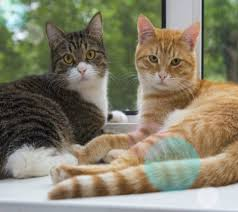Gato: (33, 8, 116, 116), (132, 12, 213, 105)
